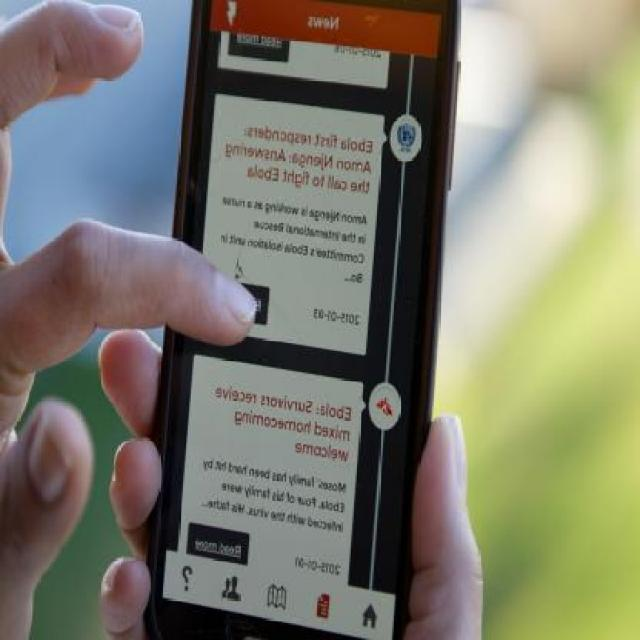phone: (118, 0, 455, 628)
